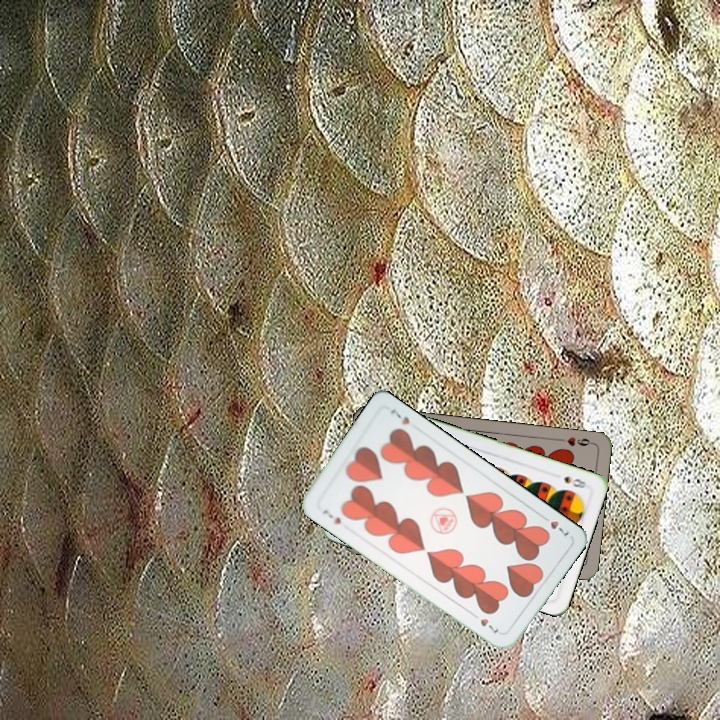H7: (537, 511, 572, 540), (319, 506, 343, 527)
H9: (555, 433, 596, 449)
S8: (560, 472, 592, 491)
